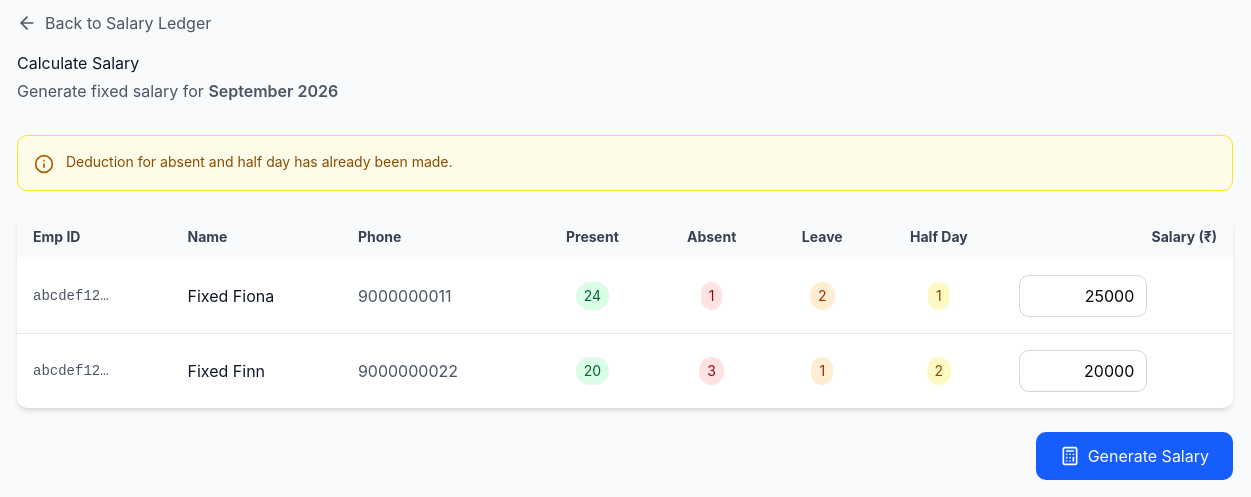
Scenario: CalculateSalaryScreen › generating the salary › recognises that someone else already generated it, and says so
Check: the text "Fixed Fiona" is shown, box [172,259,342,334]
Click the button "Generate Salary".
click(1134, 456)  # box [1036,432,1233,480]
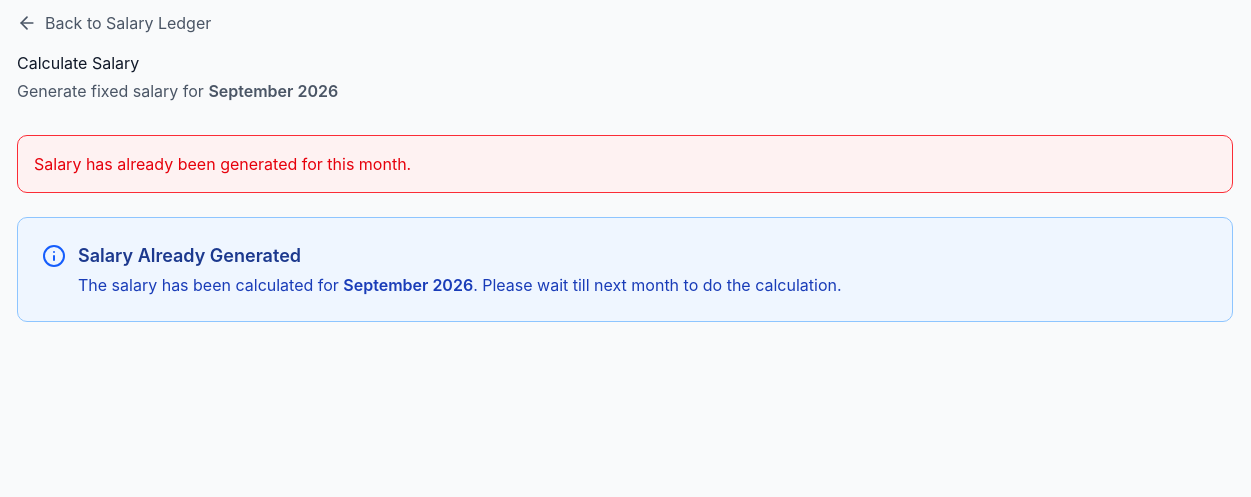
Check: the text "Salary has already been generated for this month." is shown, box [34,154,411,174]
Check: the heading "Salary Already Generated" is shown, box [78,245,301,266]
